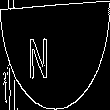N_N: (44, 29, 66, 81)
